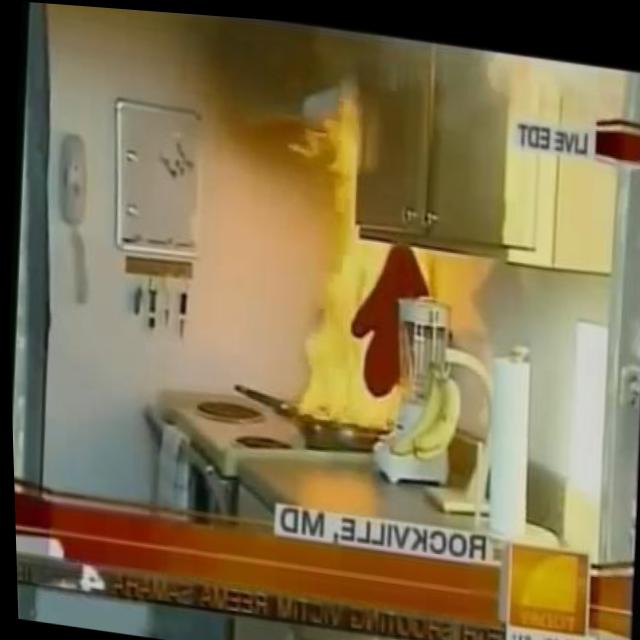fire: (267, 73, 459, 434)
